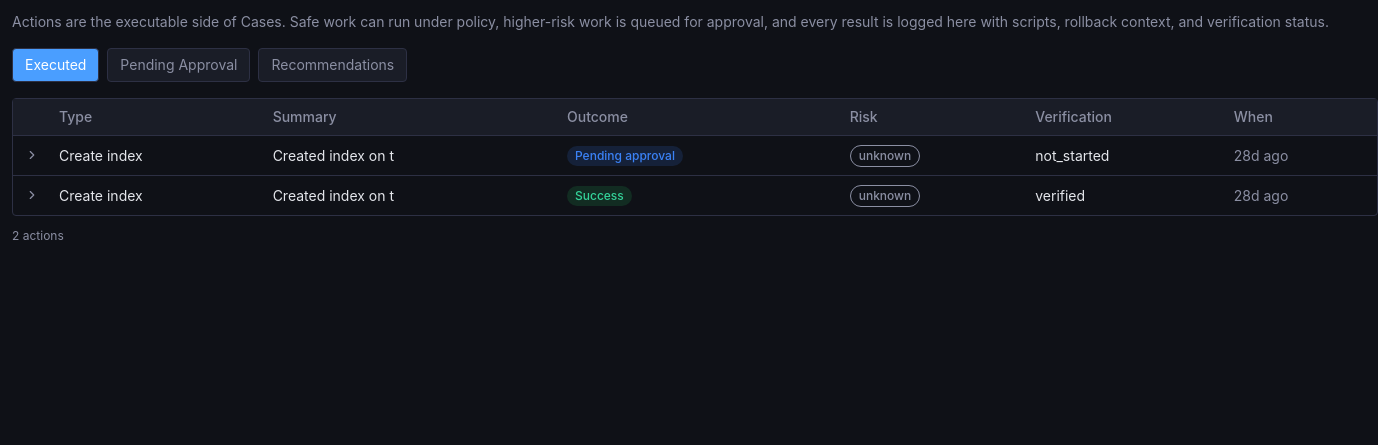
Scenario: Action ledger record kinds › never offers rollback on a queued proposal
Click the button named "Expand row" in the row of "not_started" at (32,155), box [21,144,43,166]
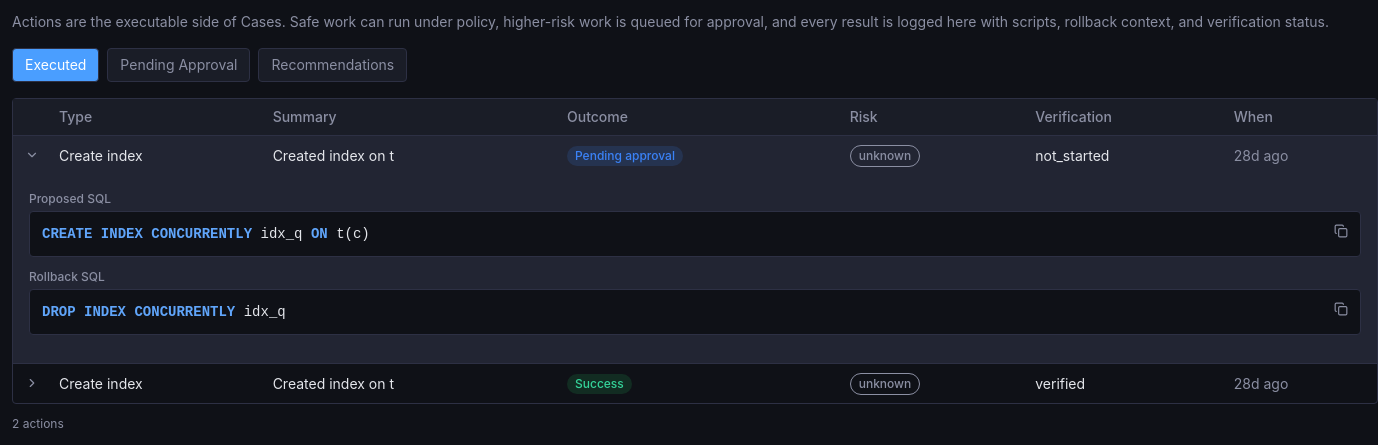
Now the text "Proposed SQL" is shown, box [29,191,111,206]
